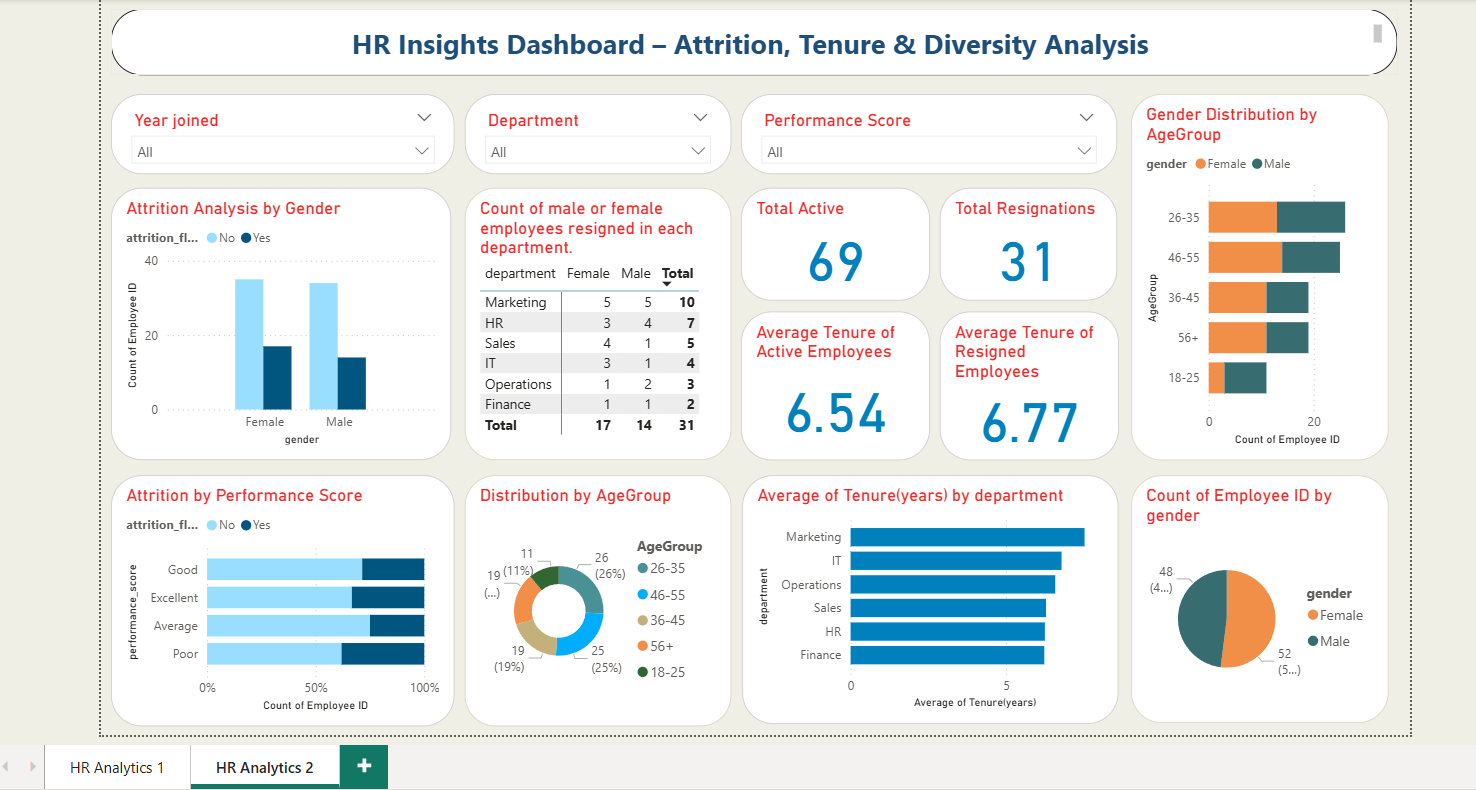

What the dashboard file says about the page in this screenshot:
{"tool":"powerbi","page":{"name":"HR Analytics 2","canvas":[1280,720],"ordinal":1},"visuals":[{"type":"clusteredColumnChart","title":" Attrition Analysis by Gender","fields":{"Category":["employees.gender"],"Y":["CountNonNull(employees.Employee ID)"],"Series":["employees.attrition_flag"]},"box":[9.8,184.6,332.6,266.6],"z":0},{"type":"textbox","box":[9.8,9.8,1258.3,64.8],"z":1000},{"type":"hundredPercentStackedBarChart","title":"Attrition by Performance Score","fields":{"Category":["employees.performance_score"],"Y":["CountNonNull(employees.Employee ID)"],"Series":["employees.attrition_flag"]},"box":[9.8,465.9,336.3,245.8],"z":2000},{"type":"barChart","fields":{"Y":["Avg(employees.Tenure(years))"],"Category":["employees.department"]},"box":[627.3,465.9,368.1,243.3],"z":3000},{"type":"pivotTable","title":"Count of male or female employees resigned in each department.","fields":{"Rows":["employees.department"],"Columns":["employees.gender"],"Values":["CountNonNull(employees.Employee ID)"]},"box":[355.8,184.6,260.5,266.6],"z":4000},{"type":"slicer","fields":{"Values":["employees.Year joined"]},"box":[9.8,92.9,336.3,78.3],"z":5000},{"type":"slicer","fields":{"Values":["employees.department"]},"box":[355.8,92.9,260.5,78.3],"z":6000},{"type":"slicer","fields":{"Values":["employees.performance_score"]},"box":[626.1,92.9,368.1,78.3],"z":7000},{"type":"card","title":"Total Resignations","fields":{"Values":["CountNonNull(employees.Employee ID)"]},"box":[820.5,184.6,173.6,110.1],"z":8000},{"type":"card","title":"Average Tenure of Resigned Employees","fields":{"Values":["Avg(employees.Tenure(years))"]},"box":[820.5,305.7,174.9,145.5],"z":9000},{"type":"card","title":"Total Active","fields":{"Values":["CountNonNull(employees.Employee ID)"]},"box":[626.1,184.6,184.6,110.1],"z":10000},{"type":"donutChart","title":"Distribution by AgeGroup","fields":{"Y":["CountNonNull(employees.Employee ID)"],"Category":["employees.AgeGroup"]},"box":[355.8,465.9,260.5,245.8],"z":11000},{"type":"barChart","title":"Gender Distribution by AgeGroup","fields":{"Series":["employees.gender"],"Category":["employees.AgeGroup"],"Y":["CountNonNull(employees.Employee ID)"]},"box":[1007.6,92.9,251.9,358.3],"z":12000},{"type":"card","title":"Average Tenure of Active Employees","fields":{"Values":["Avg(employees.Tenure(years))"]},"box":[626.1,305.7,184.6,145.5],"z":13000},{"type":"pieChart","fields":{"Category":["employees.gender"],"Y":["CountNonNull(employees.Employee ID)"]},"box":[1007.6,465.9,251.9,242.1],"z":14000}]}

Visuals, with their boxes on the page's 1280x720 design canvas (x1, y1, x2, y2). These are canvas units, not pixel positions in the 1476x790 screenshot, which may show the page scaled, cropped or inside an application window:
" Attrition Analysis by Gender" clusteredColumnChart: bbox=[10, 185, 342, 451]
textbox: bbox=[10, 10, 1268, 75]
"Attrition by Performance Score" hundredPercentStackedBarChart: bbox=[10, 466, 346, 712]
barChart - Avg(employees.Tenure(years)) x employees.department: bbox=[627, 466, 995, 709]
"Count of male or female employees resigned in each department." pivotTable: bbox=[356, 185, 616, 451]
slicer - employees.Year joined: bbox=[10, 93, 346, 171]
slicer - employees.department: bbox=[356, 93, 616, 171]
slicer - employees.performance_score: bbox=[626, 93, 994, 171]
"Total Resignations" card: bbox=[820, 185, 994, 295]
"Average Tenure of Resigned Employees" card: bbox=[820, 306, 995, 451]
"Total Active" card: bbox=[626, 185, 811, 295]
"Distribution by AgeGroup" donutChart: bbox=[356, 466, 616, 712]
"Gender Distribution by AgeGroup" barChart: bbox=[1008, 93, 1260, 451]
"Average Tenure of Active Employees" card: bbox=[626, 306, 811, 451]
pieChart - employees.gender x CountNonNull(employees.Employee ID): bbox=[1008, 466, 1260, 708]
